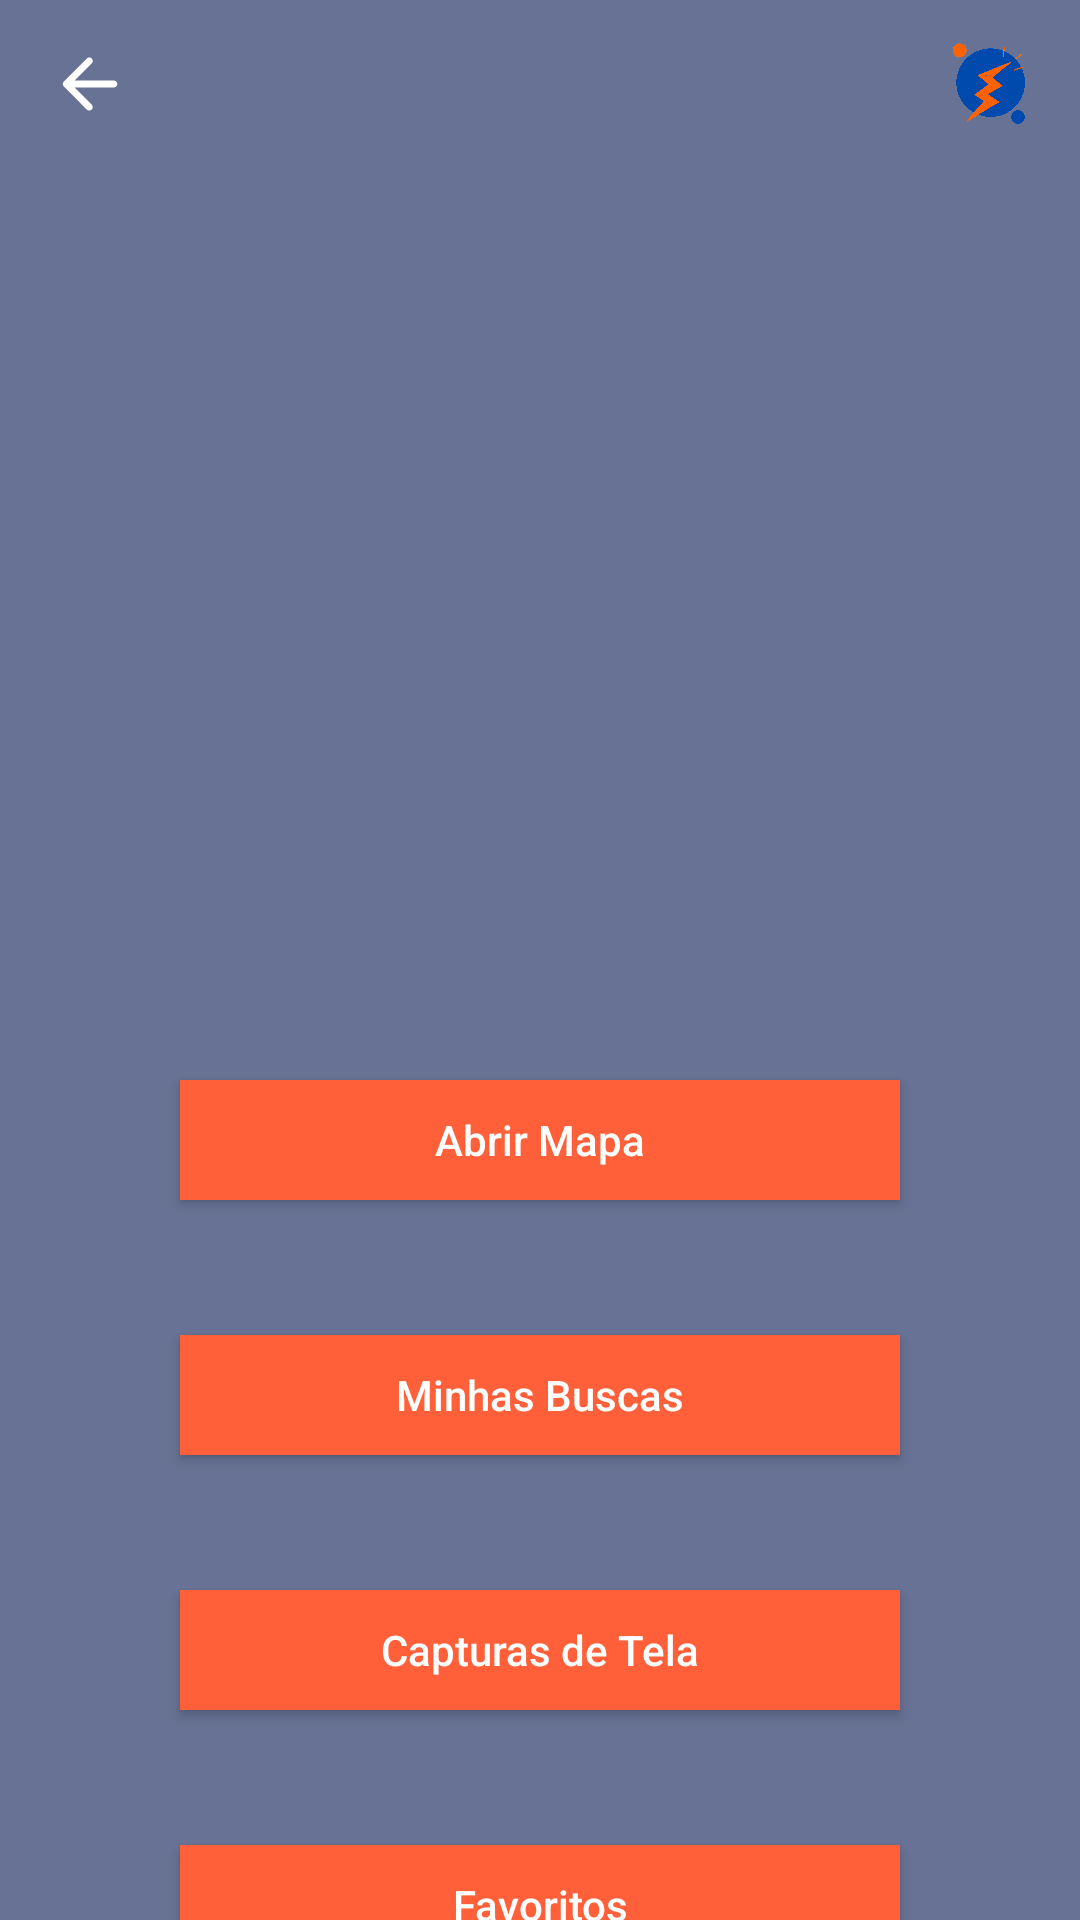

Named icons in this screenshot (1080px×1920px) and their centers, point (x, y):
arrow back: point (90, 84)
